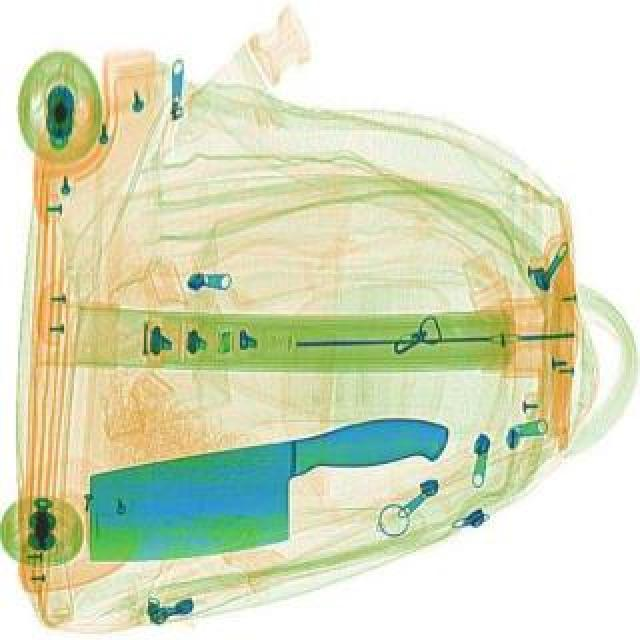knife: (64, 394, 464, 580)
